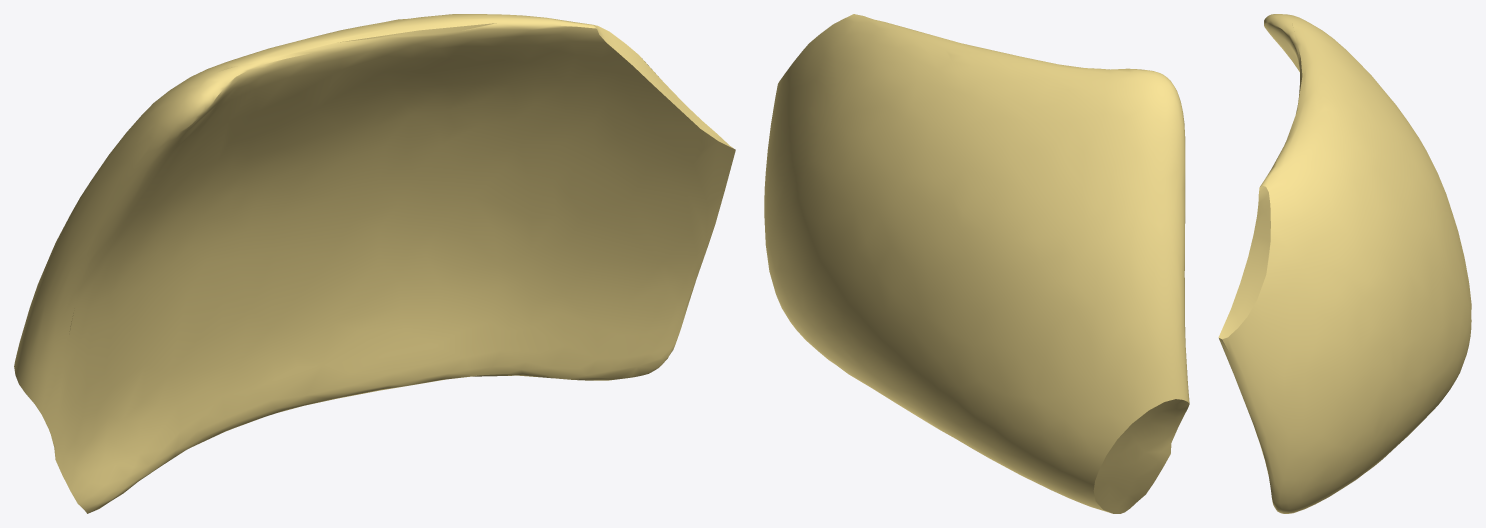
File: fma73456_mm3604.glb
3 views of the same model, side by side, from view 1: azimuth 30°, elevation 25°; view 2: azimuth 150°, elevation 25°; view 3: azimuth 270°, elevation 25° (orthographic). The views are drawn at different scales.
Parts seen in each view (by area): view 1: FMA73456_MM3604; view 2: FMA73456_MM3604; view 3: FMA73456_MM3604.
Boxes of the visible parts, left/top/right/bottom form: FMA73456_MM3604: left=14, top=14, right=735, bottom=513; FMA73456_MM3604: left=764, top=14, right=1189, bottom=513; FMA73456_MM3604: left=1218, top=14, right=1471, bottom=513.
Size of the model in its own units: 0.00812 by 0.00608 by 0.00361.
